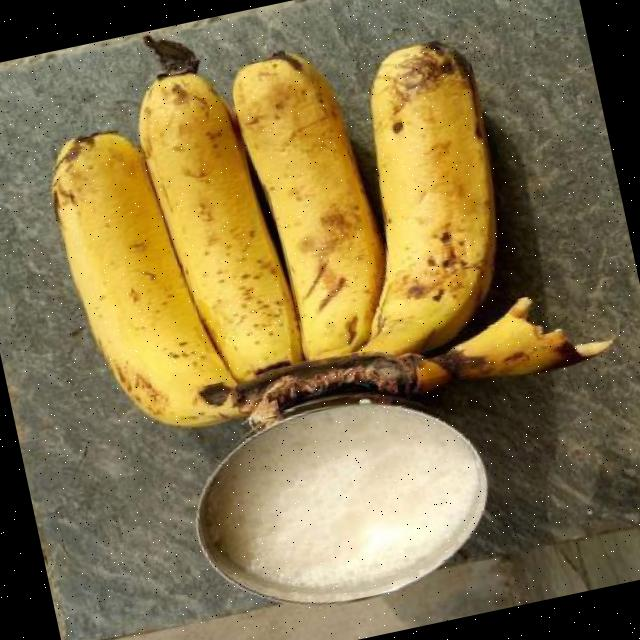banana: (51, 129, 231, 427), (138, 68, 305, 380), (232, 46, 385, 361), (370, 40, 497, 353)
